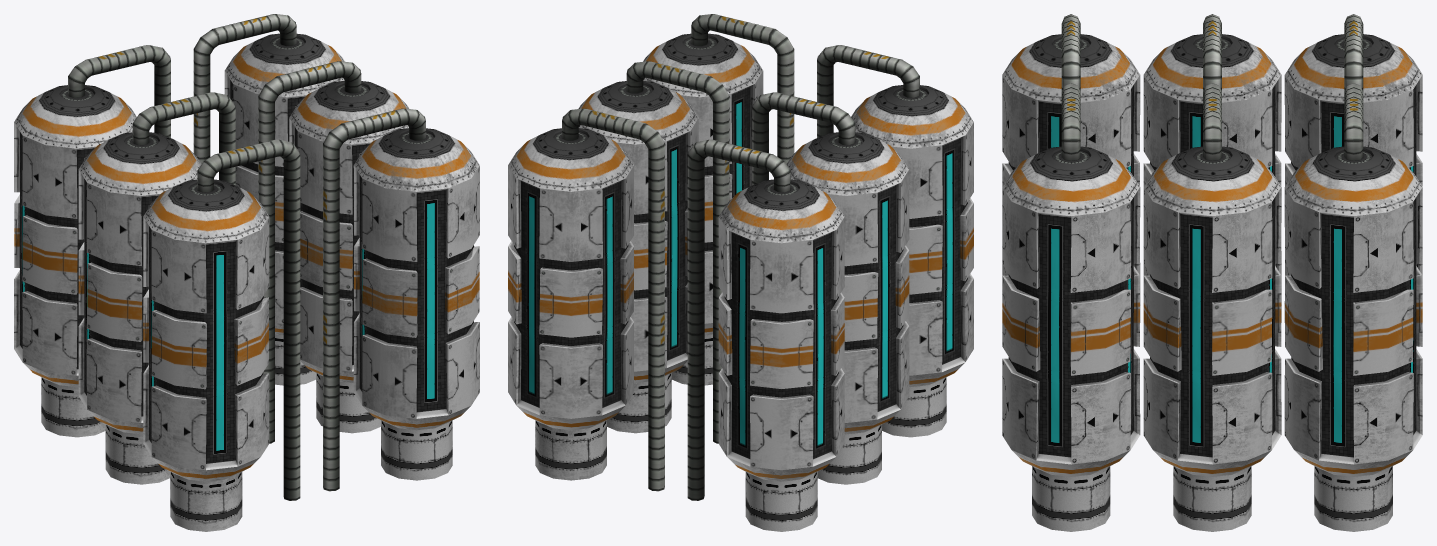
File: cooling_towers.dae
3 views of the same model, side by side, from view 1: azimuth 30°, elevation 25°; view 2: azimuth 150°, elevation 25°; view 3: azimuth 270°, elevation 25° (orthographic). The views are drawn at different scales.
Visible parts, largest first — view 1: cooling_towers; view 2: cooling_towers; view 3: cooling_towers.
Boxes of the visible parts, x1,y1,x2,y2 form: cooling_towers: (14,14,479,531); cooling_towers: (508,14,973,531); cooling_towers: (1002,14,1422,531).
Size of the model in its own units: 8.58 by 8.93 by 9.25.
1 material, 1 textured.
